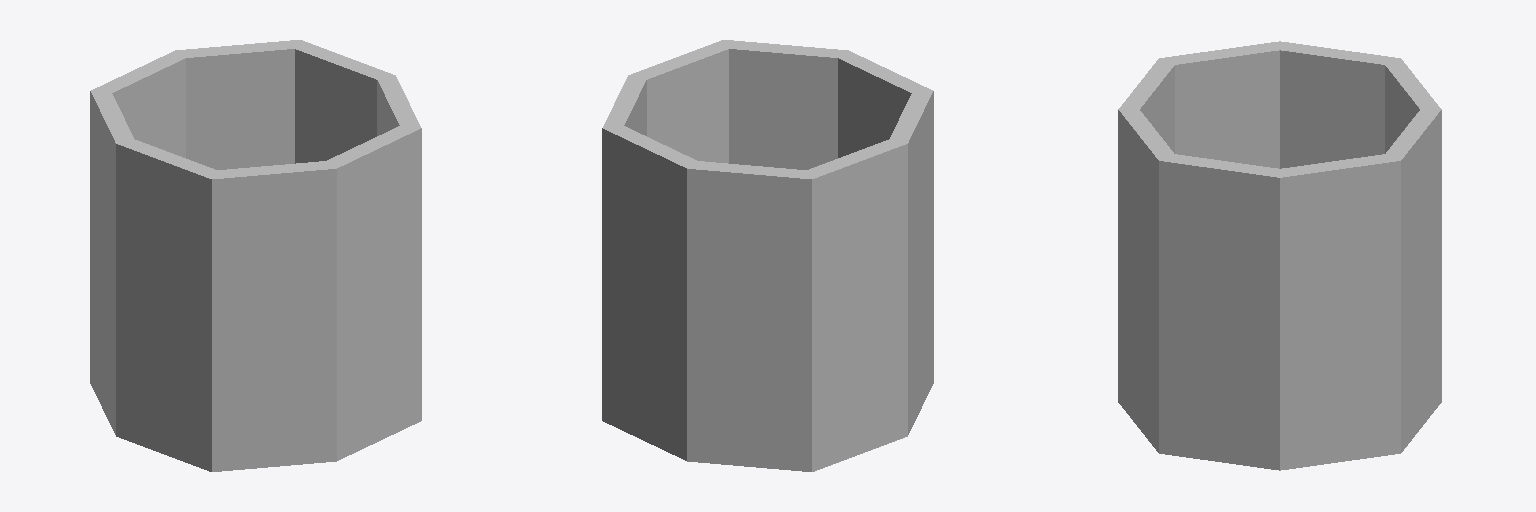
Rendered from plant_pot_01.obj.
3 renders of one model, left to right at view 1: azimuth 30°, elevation 25°; view 2: azimuth 150°, elevation 25°; view 3: azimuth 270°, elevation 25°, orthographic.
Visible parts, largest first — view 1: PlantPot01_Cube; view 2: PlantPot01_Cube; view 3: PlantPot01_Cube.
Part boxes in pixels (x1,y1,x2,y2): PlantPot01_Cube: (90,40,421,471); PlantPot01_Cube: (602,40,933,471); PlantPot01_Cube: (1118,41,1441,470).
Bounding box in the file's own units: 2 × 2 × 2.